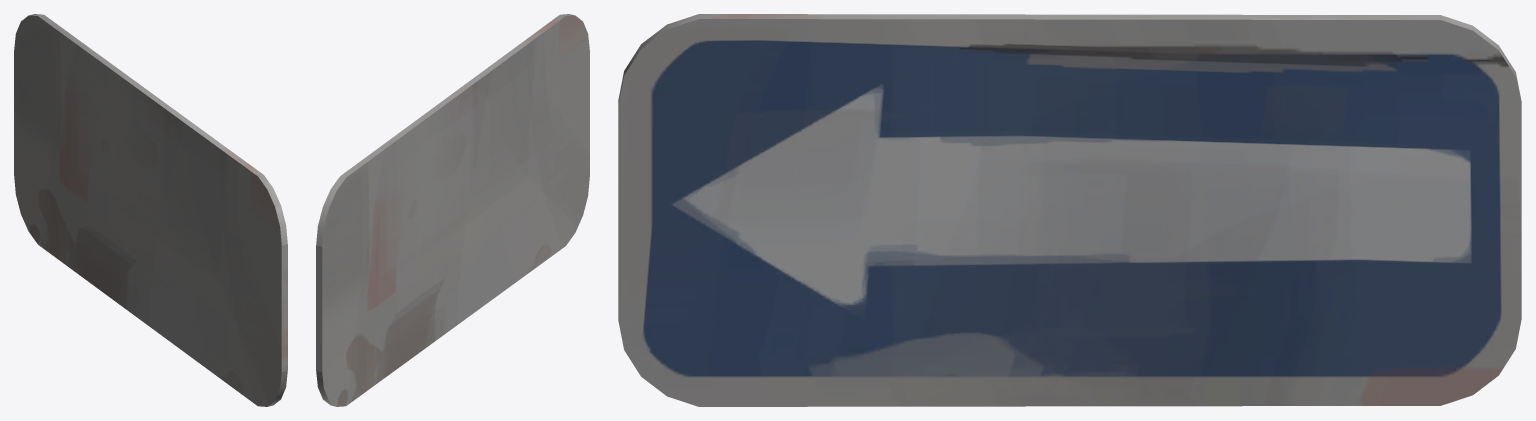
Rendered from street_sign003.glb.
3 views of the same model, side by side, from view 1: azimuth 30°, elevation 25°; view 2: azimuth 150°, elevation 25°; view 3: azimuth 270°, elevation 25° (orthographic). The views are drawn at different scales.
Parts seen in each view (by area): view 1: street_sign003; view 2: street_sign003; view 3: street_sign003.
Part boxes in pixels (x1,y1,x2,y2): street_sign003: (14,14,287,406); street_sign003: (316,14,589,406); street_sign003: (618,14,1521,406).
Bounding box in the file's own units: 0.0211 × 0.7645 × 1.61.
Materials: 1 (1 with a texture image).
